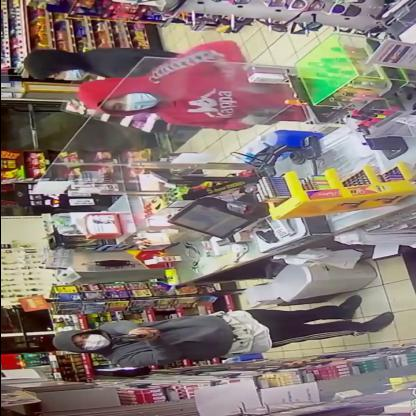Pistol: (243, 105, 298, 125), (120, 324, 164, 345)
